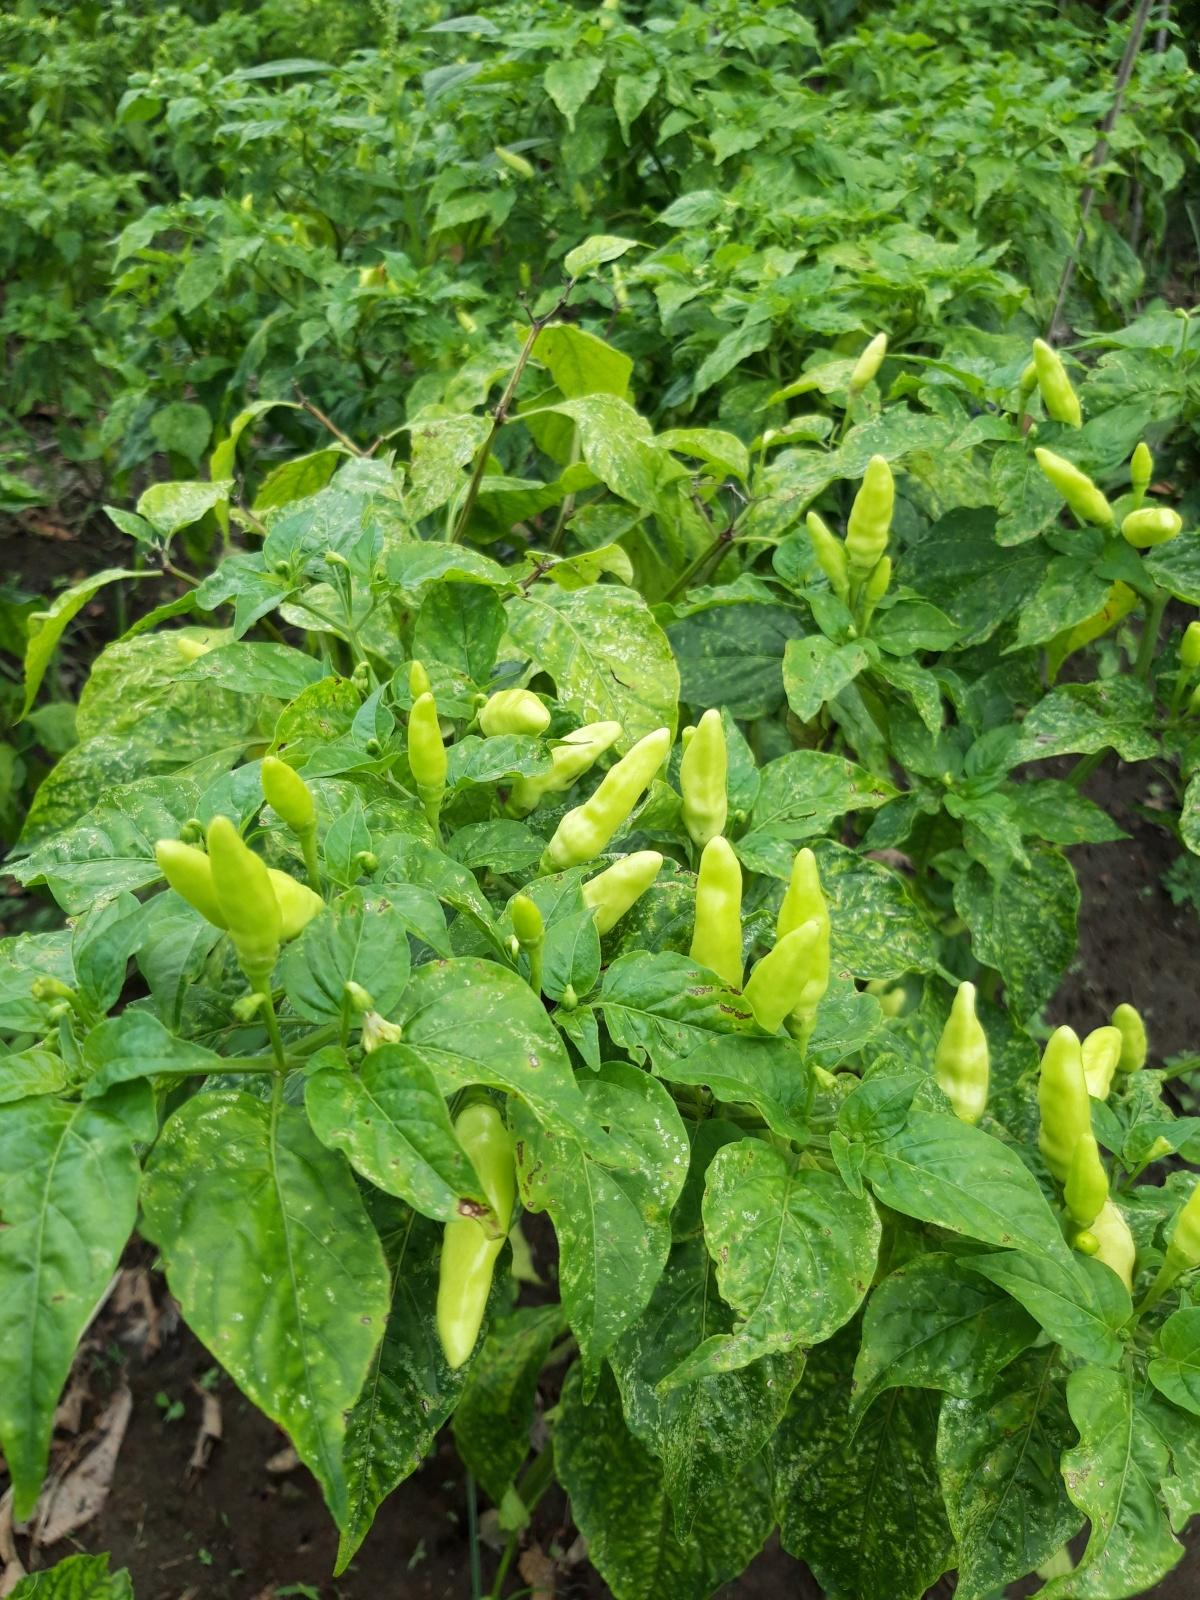cabai_normal: (435, 1109, 518, 1369), (155, 839, 329, 941), (548, 726, 671, 866), (208, 815, 281, 981), (1036, 1026, 1095, 1189), (513, 721, 623, 809), (740, 920, 822, 1034), (778, 848, 831, 1020), (689, 837, 742, 988), (935, 980, 987, 1128), (577, 850, 663, 935), (679, 709, 729, 844), (1035, 449, 1114, 525), (851, 454, 895, 572), (1034, 336, 1083, 430), (1065, 1135, 1109, 1225), (260, 756, 314, 828), (807, 509, 852, 591), (407, 692, 446, 786), (482, 688, 551, 740), (1074, 1026, 1122, 1099), (1112, 1003, 1147, 1073), (1122, 506, 1182, 547), (848, 331, 886, 391), (513, 896, 545, 945), (865, 556, 894, 602), (408, 659, 432, 703), (1129, 442, 1153, 485)
